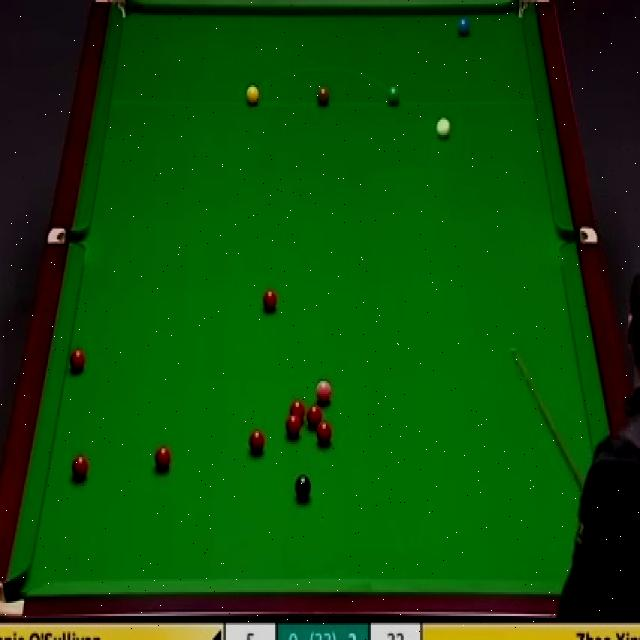black-ball: (294, 474, 312, 503)
blue-ball: (456, 11, 472, 38)
brown-ball: (316, 86, 331, 108)
green-ball: (386, 85, 401, 108)
pink-ball: (312, 379, 332, 406)
red-ball: (72, 448, 91, 478), (152, 445, 172, 472), (284, 414, 302, 440), (68, 347, 85, 374), (262, 287, 279, 314), (249, 428, 265, 456), (288, 399, 306, 422), (316, 420, 332, 445), (310, 403, 326, 424)
white-ball: (433, 116, 452, 142)
yellow-ball: (246, 84, 260, 107)
